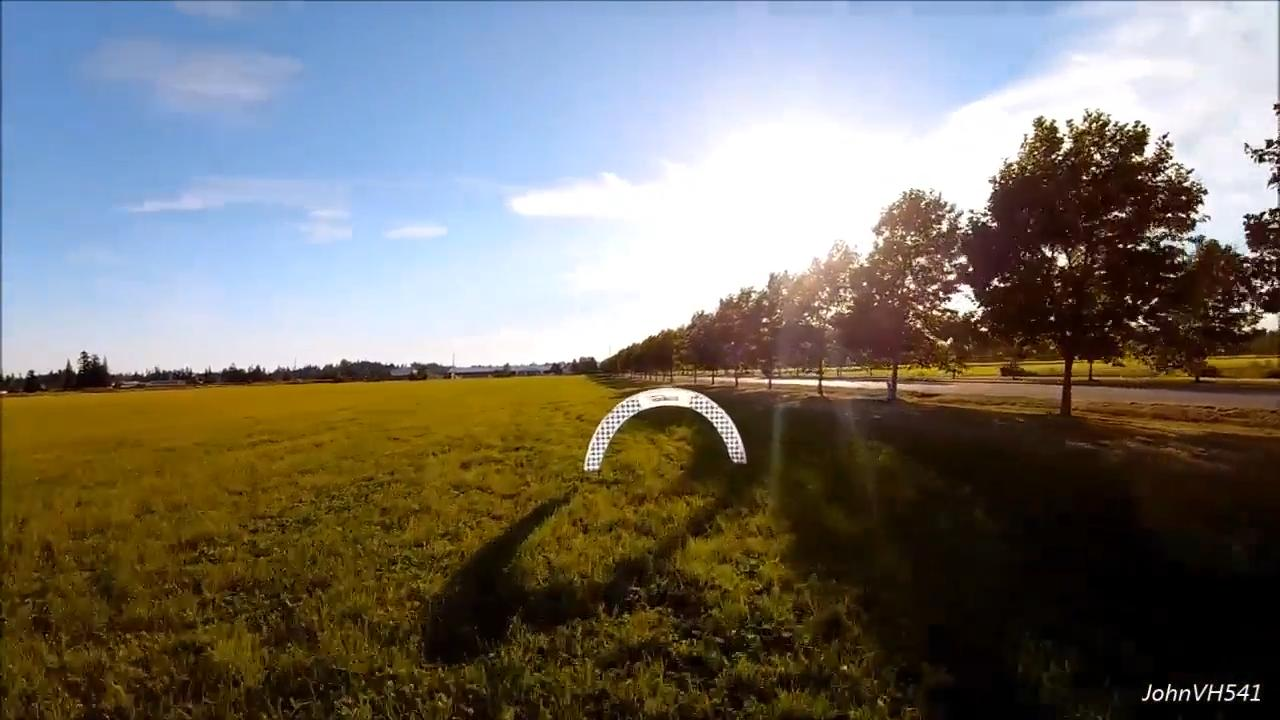gate: (580, 384, 747, 472)
